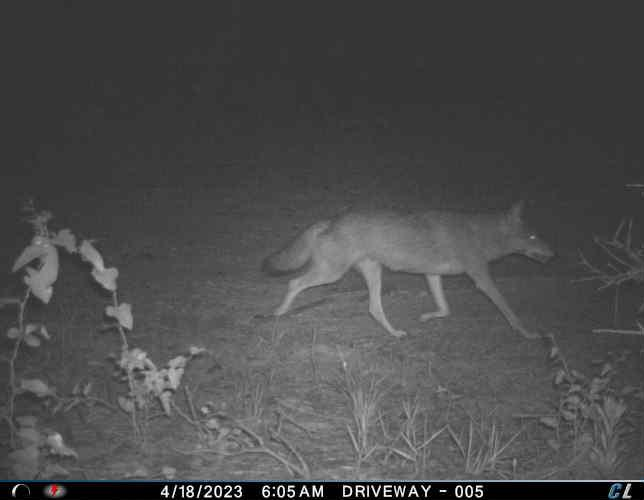Coyote: (261, 197, 555, 342)
